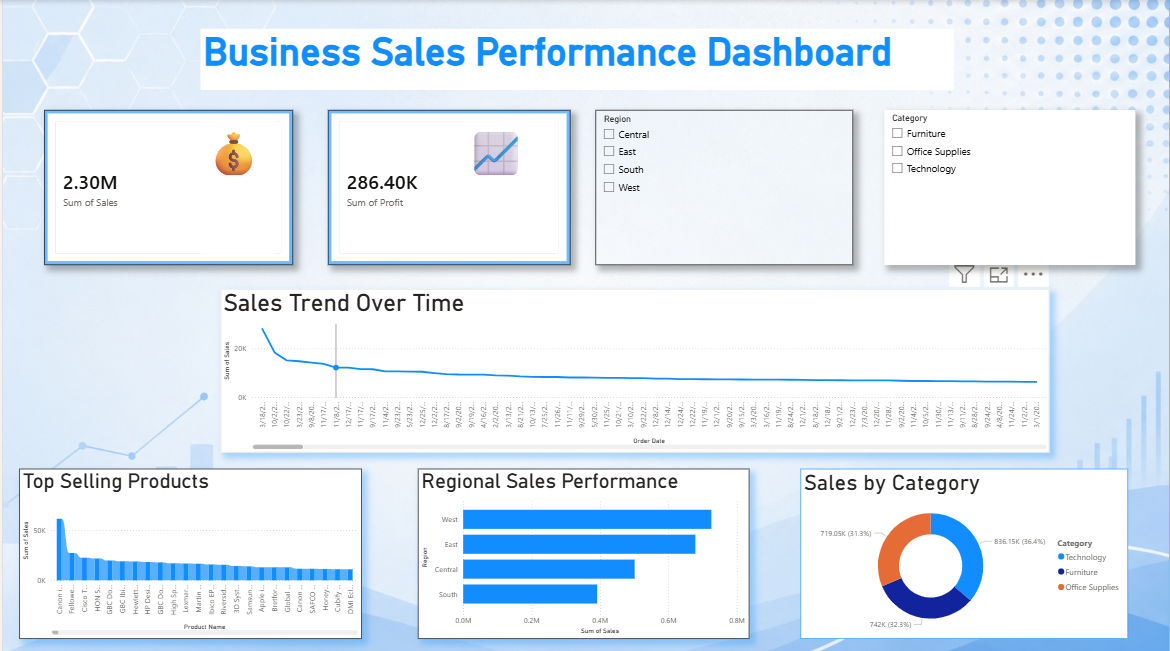

What the dashboard file says about the page in this screenshot:
{"tool":"powerbi","page":{"name":"Page 1","canvas":[1920,1080],"ordinal":0},"visuals":[{"type":"cardVisual","fields":{"Data":["Sum(Sample___Superstore.Sales)"]},"box":[67.9,181.1,409.6,255.2],"z":0},{"type":"lineChart","title":"Sales Trend Over Time","fields":{"Y":["Sum(Sample___Superstore.Sales)"],"Category":["Sample___Superstore.Order Date"]},"box":[358.1,475.5,1364.7,269.6],"z":1000},{"type":"ribbonChart","title":"Top Selling Products","fields":{"Category":["Sample___Superstore.Product Name"],"Y":["Sum(Sample___Superstore.Sales)"]},"box":[26.8,771.9,564,279.9],"z":2000},{"type":"cardVisual","fields":{"Data":["Sum(Sample___Superstore.Profit)"]},"box":[535.2,181.1,399.3,255.2],"z":3000},{"type":"donutChart","title":"Sales by Category","fields":{"Category":["Sample___Superstore.Category"],"Y":["Sum(Sample___Superstore.Sales)"]},"box":[1313.2,771.9,539.3,279.9],"z":4000},{"type":"clusteredBarChart","title":"Regional Sales Performance","fields":{"Category":["Sample___Superstore.Region"],"Y":["Sum(Sample___Superstore.Sales)"]},"box":[683.4,771.9,545.5,279.9],"z":5000},{"type":"textbox","title":"Business Sales Performance Dashboard","box":[325.2,47.3,1241.2,100.9],"z":6000},{"type":"slicer","fields":{"Values":["Sample___Superstore.Region"]},"box":[975.6,181.1,424,255.2],"z":7000},{"type":"slicer","fields":{"Values":["Sample___Superstore.Category"]},"box":[1451.1,181.1,413.7,255.2],"z":8000},{"type":"textbox","box":[325.2,195.5,123.5,222.3],"z":9000},{"type":"textbox","box":[757.5,195.5,156.4,148.2],"z":10000}]}

Visuals, with their boxes in screenshot pixels (x1, y1, x2, y2), scaled from the page's 1920x1080 canvas onto the 1170x651 screenshot:
cardVisual - Sum(Sample___Superstore.Sales): x1=41, y1=109, x2=291, y2=263
"Sales Trend Over Time" lineChart: x1=218, y1=287, x2=1050, y2=449
"Top Selling Products" ribbonChart: x1=16, y1=465, x2=360, y2=634
cardVisual - Sum(Sample___Superstore.Profit): x1=326, y1=109, x2=569, y2=263
"Sales by Category" donutChart: x1=800, y1=465, x2=1129, y2=634
"Regional Sales Performance" clusteredBarChart: x1=416, y1=465, x2=749, y2=634
"Business Sales Performance Dashboard" textbox: x1=198, y1=29, x2=955, y2=89
slicer - Sample___Superstore.Region: x1=595, y1=109, x2=853, y2=263
slicer - Sample___Superstore.Category: x1=884, y1=109, x2=1136, y2=263
textbox: x1=198, y1=118, x2=273, y2=252
textbox: x1=462, y1=118, x2=557, y2=207
